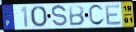1: (21, 6, 29, 28)
B: (68, 5, 86, 26)
C: (87, 4, 106, 27)
E: (105, 4, 123, 26)
O: (29, 5, 48, 28)
S: (51, 4, 68, 28)
